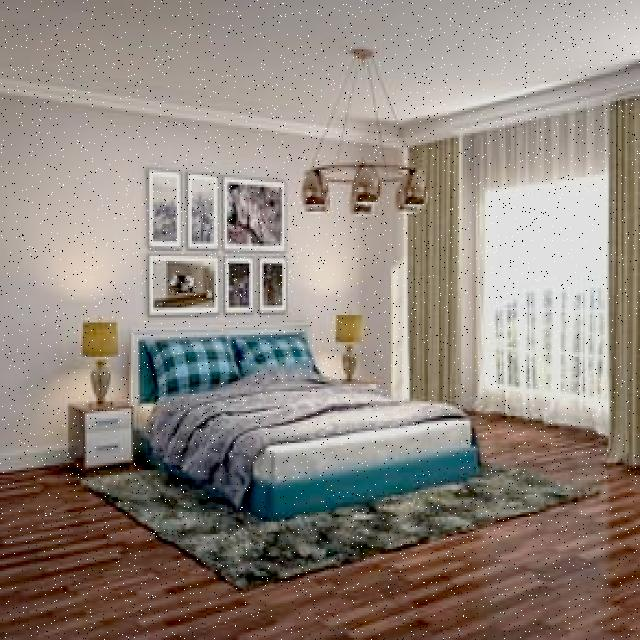bed: (138, 332, 460, 508)
